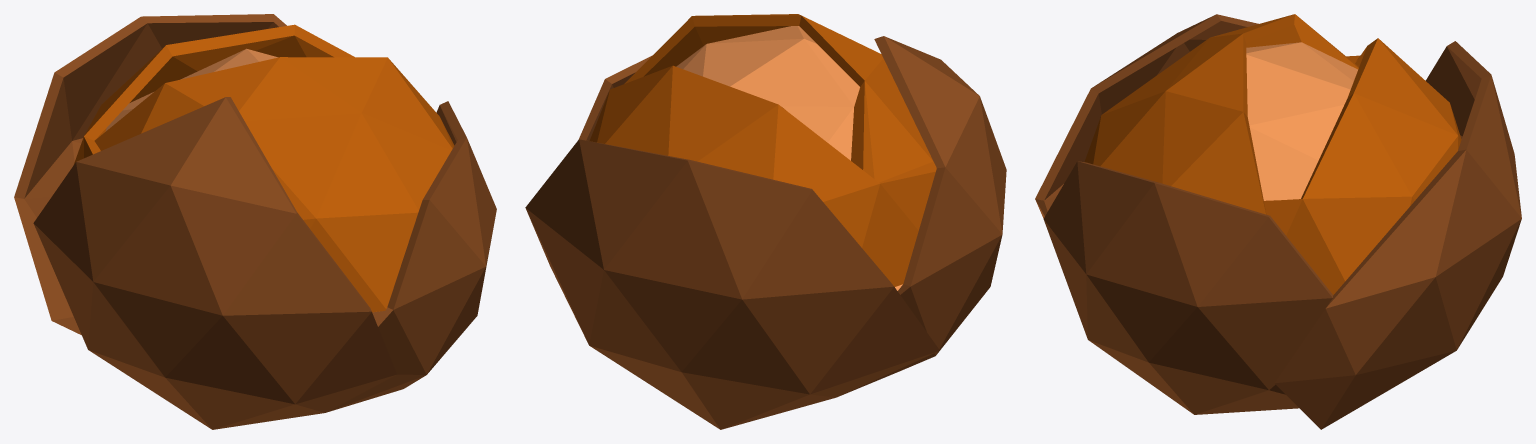
The model's file is Cabbage_S_Died.fbx.
3 renders of one model, left to right at view 1: azimuth 30°, elevation 25°; view 2: azimuth 150°, elevation 25°; view 3: azimuth 270°, elevation 25°, orthographic. The views are drawn at different scales.
Parts seen in each view (by area): view 1: Cabbage S Died; view 2: Cabbage S Died; view 3: Cabbage S Died.
Boxes of the visible parts, <box> form: Cabbage S Died: <box>14,14,496,429</box>; Cabbage S Died: <box>525,14,1006,429</box>; Cabbage S Died: <box>1035,14,1521,429</box>.
Size of the model in its own units: 23.94 by 20.15 by 25.95.
